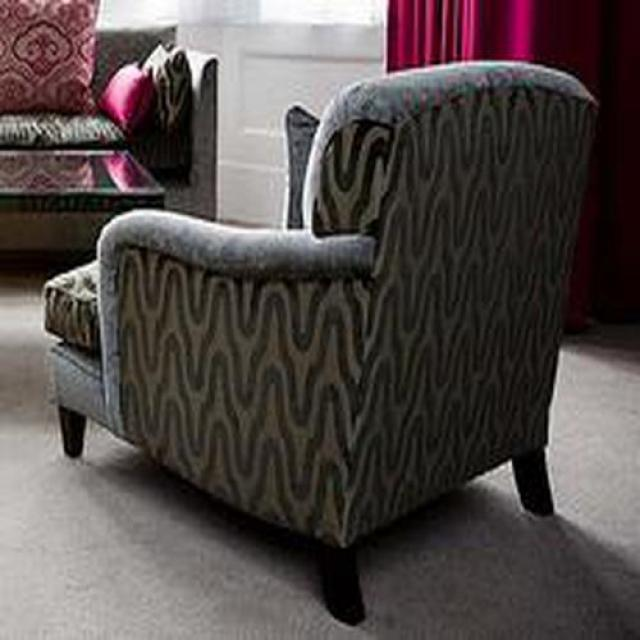sofa: (42, 60, 602, 626)
